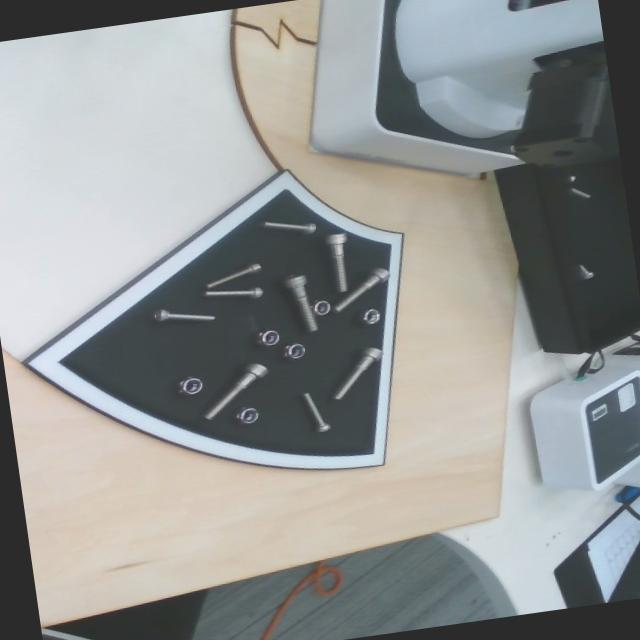big: (196, 357, 269, 422), (325, 260, 393, 316), (325, 341, 384, 403), (319, 228, 360, 295), (282, 272, 318, 335)
circle: (172, 372, 206, 403), (231, 403, 261, 429), (251, 327, 283, 350), (279, 340, 309, 364), (309, 297, 332, 319), (359, 306, 380, 330)
small: (202, 261, 262, 292), (295, 390, 331, 436), (152, 308, 215, 322), (203, 287, 262, 299), (260, 221, 316, 233)
